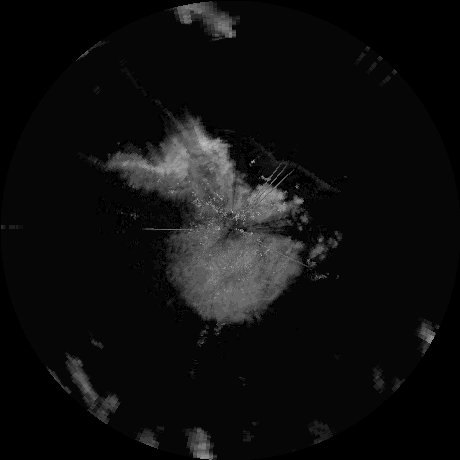frontgust: (255, 146, 337, 192)
